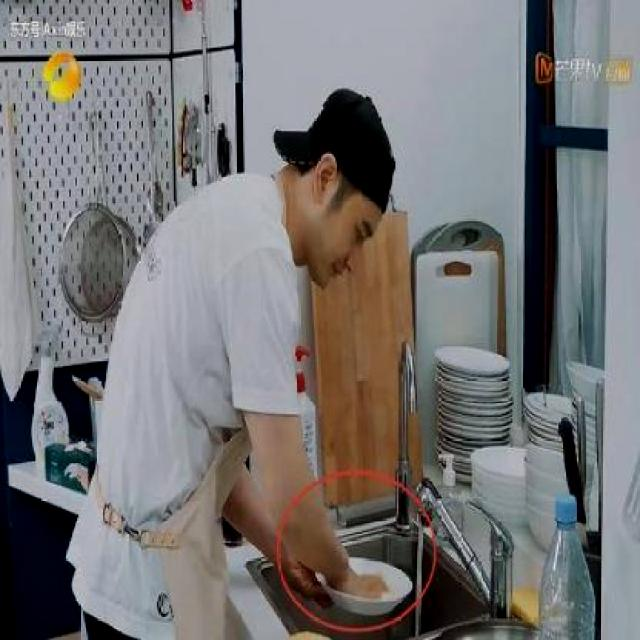face_nomask: (295, 195, 377, 291)
hand_noglove: (289, 551, 334, 611), (351, 563, 389, 608)
head_nohelmet: (291, 92, 395, 206)
person: (72, 91, 423, 640)
